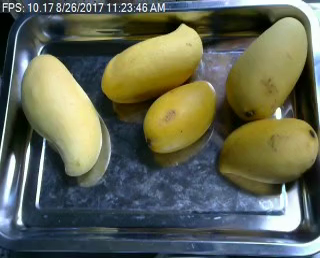Mango: (20, 55, 102, 175), (224, 17, 308, 119), (101, 23, 202, 103), (218, 116, 320, 184), (145, 79, 215, 152)
